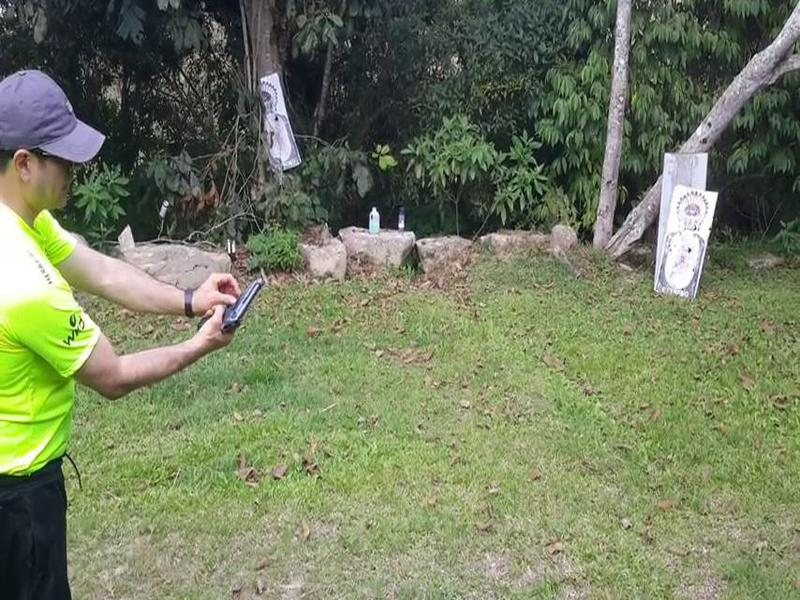Pistola: (199, 272, 270, 340)
